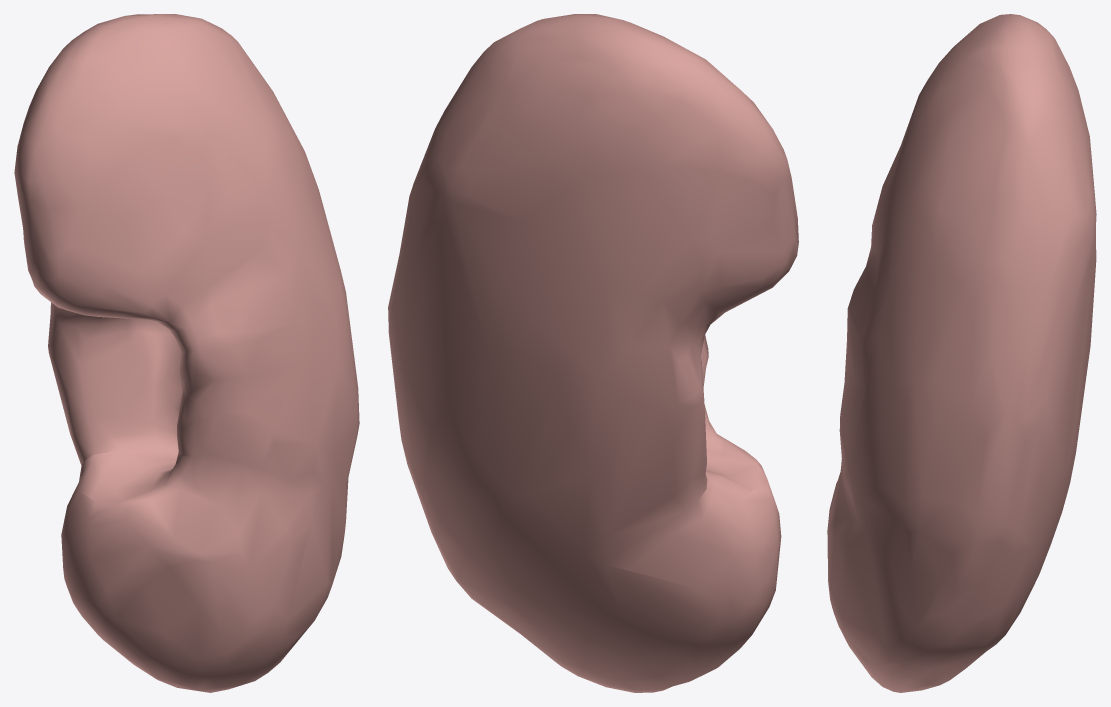
File: leftKidney.glb
3 views of the same model, side by side, from view 1: azimuth 30°, elevation 25°; view 2: azimuth 150°, elevation 25°; view 3: azimuth 270°, elevation 25° (orthographic). The views are drawn at different scales.
Visible parts, largest first — view 1: leftKidneyMesh; view 2: leftKidneyMesh; view 3: leftKidneyMesh.
Part boxes in pixels (x1=…): leftKidneyMesh: x1=14, y1=14, x2=359, y2=692; leftKidneyMesh: x1=388, y1=14, x2=798, y2=692; leftKidneyMesh: x1=827, y1=14, x2=1096, y2=692.
Size of the model in its own units: 0.0575 by 0.1059 by 0.0405.
